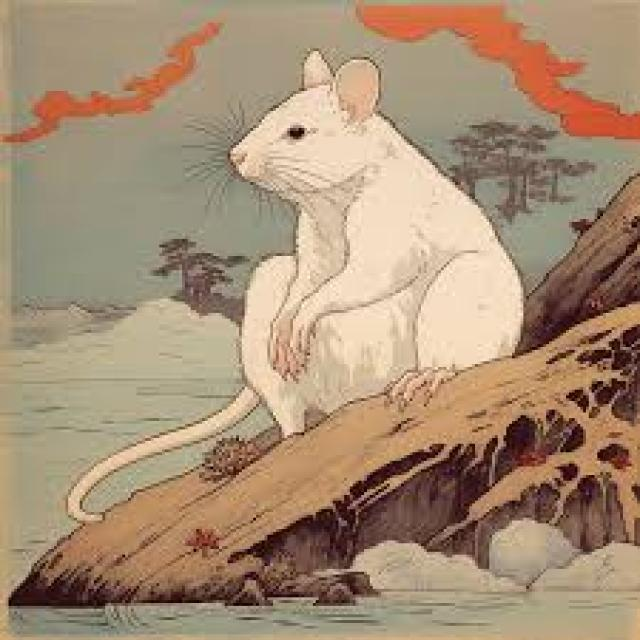rat: (66, 46, 526, 524)
